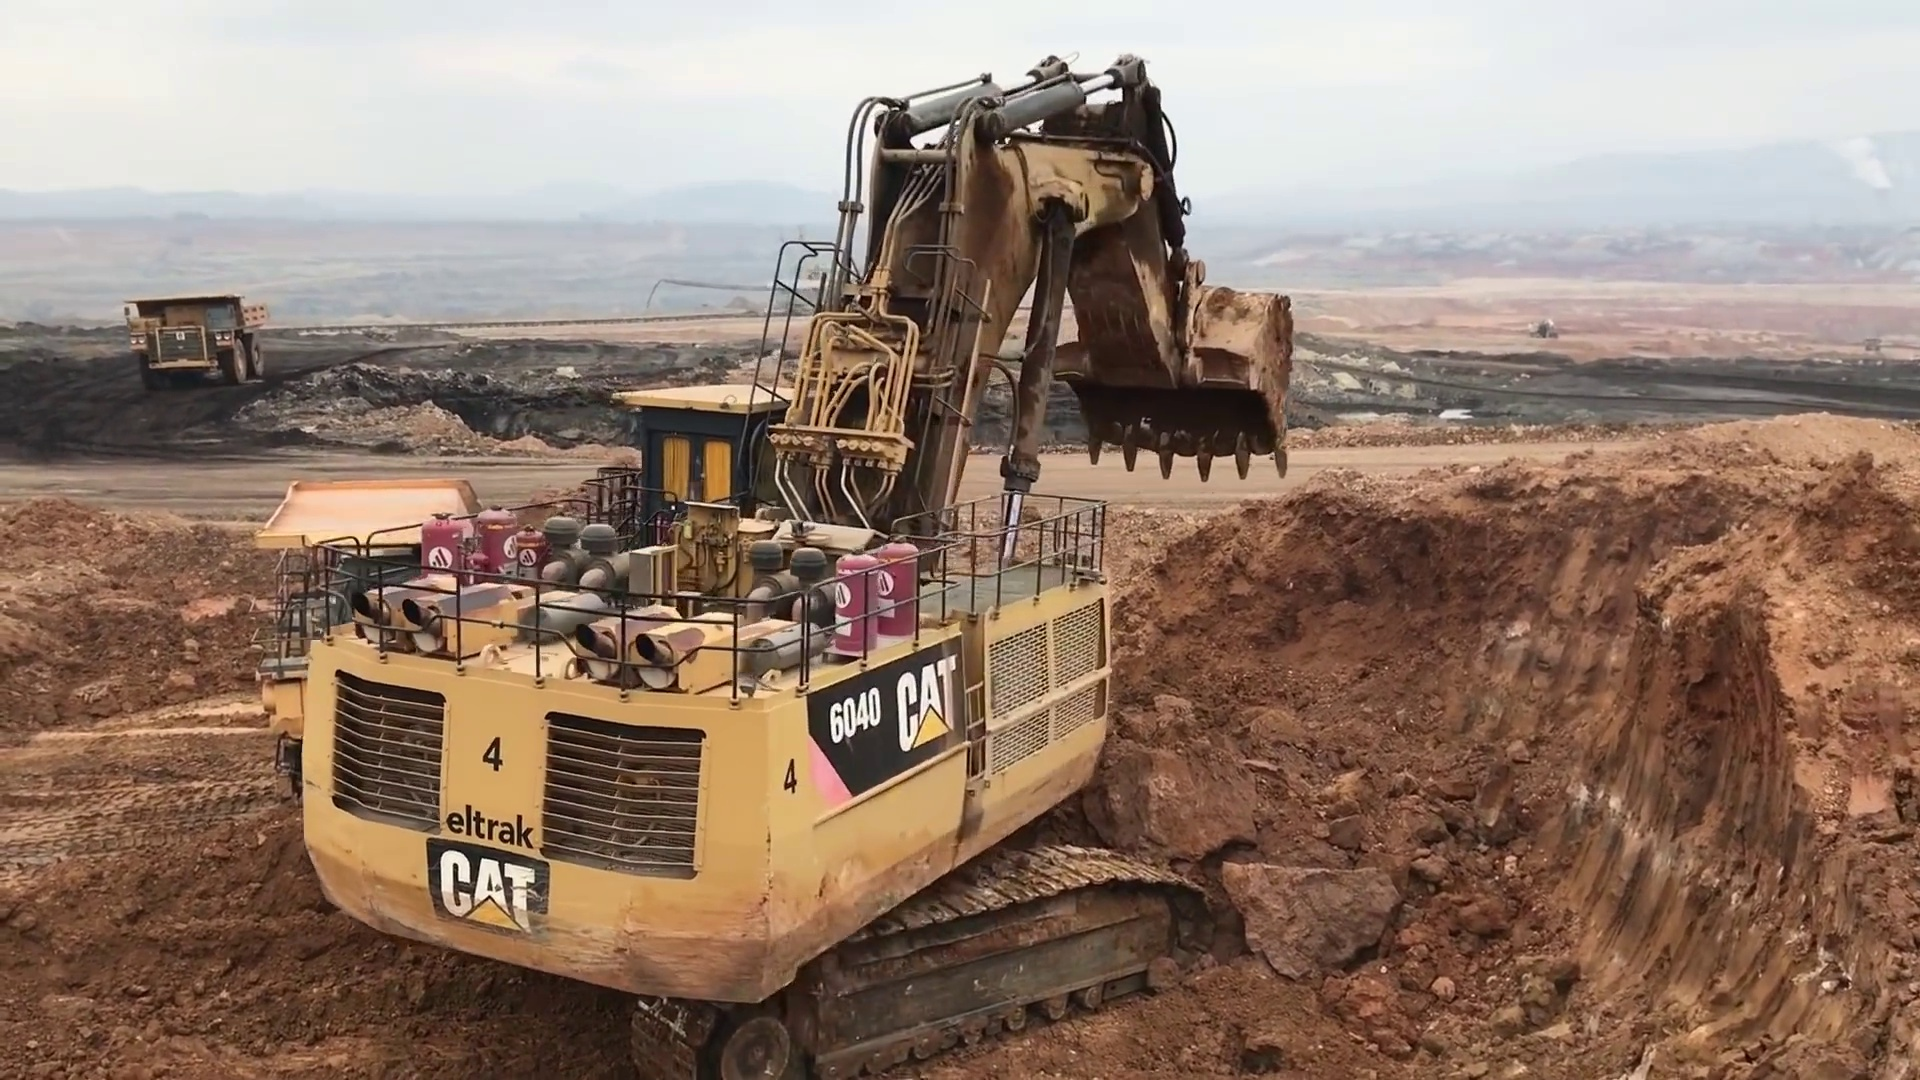dumper: (121, 291, 274, 381)
excavator: (247, 50, 1296, 1073)
